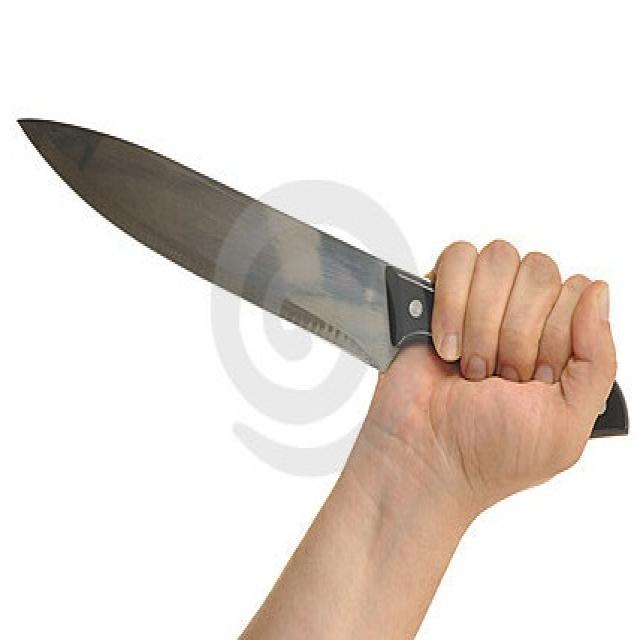knife: (15, 113, 632, 442)
